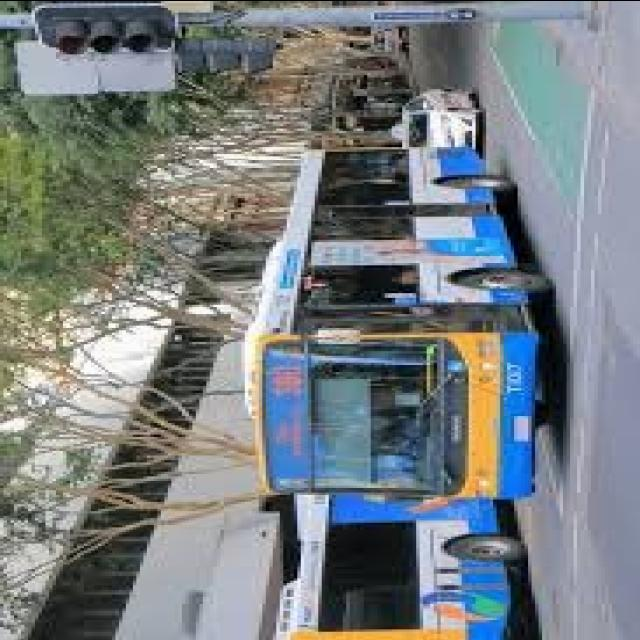bus: (211, 133, 550, 497), (260, 495, 540, 640)
